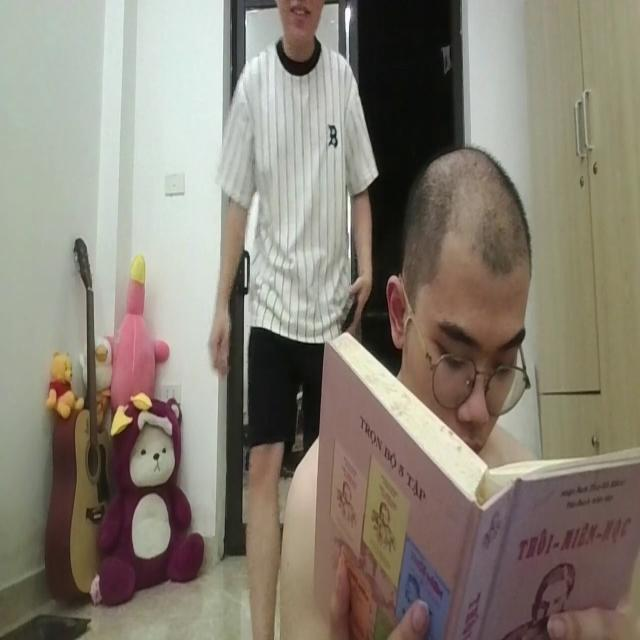book: (313, 329, 640, 640)
extra_person: (208, 0, 378, 640)
student: (282, 144, 546, 640)
